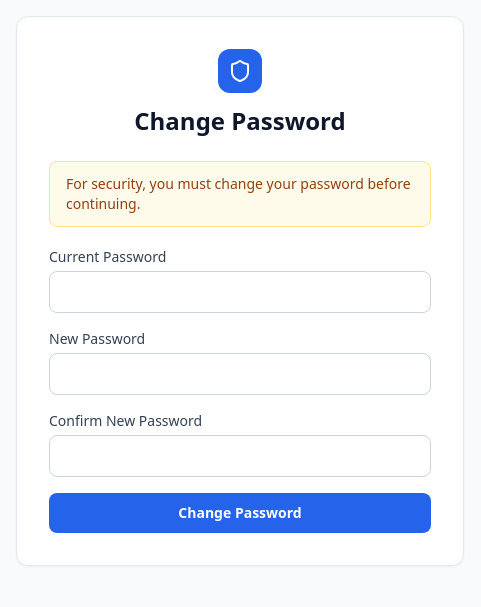
Test: ChangePasswordPage › shows error when new password is too short
In the password field labelled "Current Password": (240, 292) [49,271,431,313], type "admin"
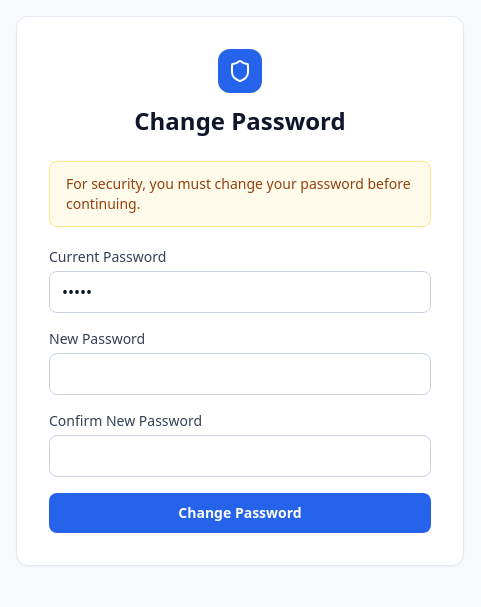
In the password field labelled "New Password": (240, 374) [49,353,431,395], type "abc"
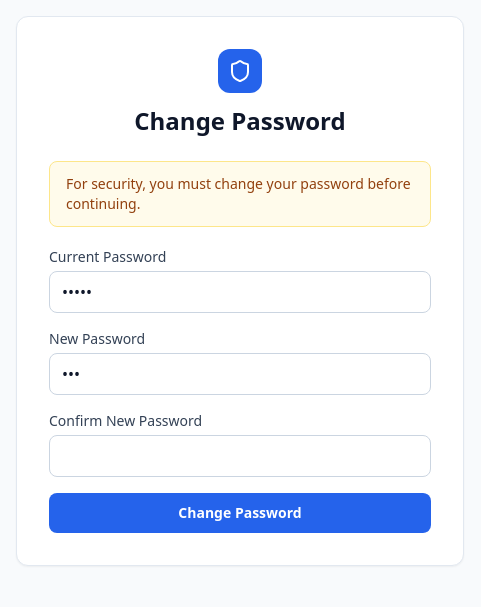
In the password field labelled "Confirm New Password": (240, 456) [49,435,431,477], type "abc"
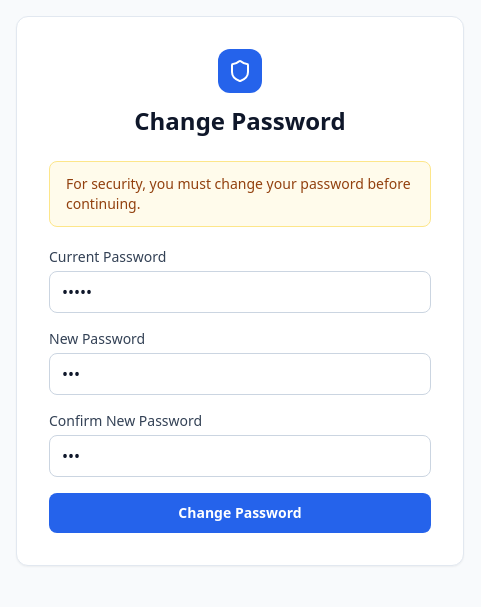
Click the button "Change Password": (240, 513) [49,493,431,533]
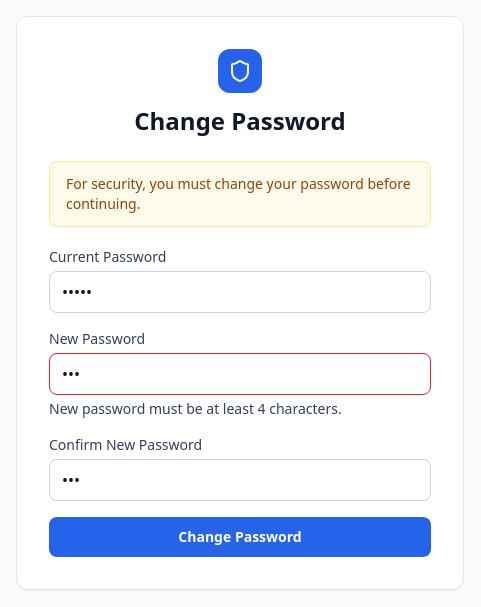
Check: the text "New password must be at least 4 characters." is shown, box [49,399,342,418]
